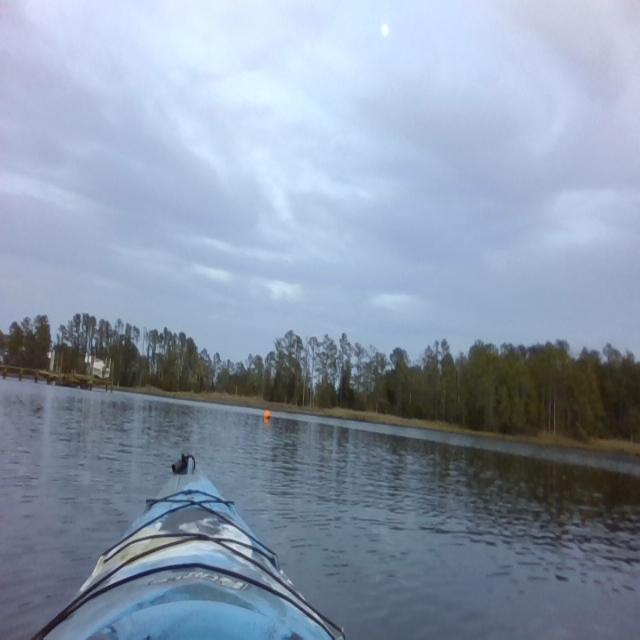Buoy: (262, 407, 272, 422)
